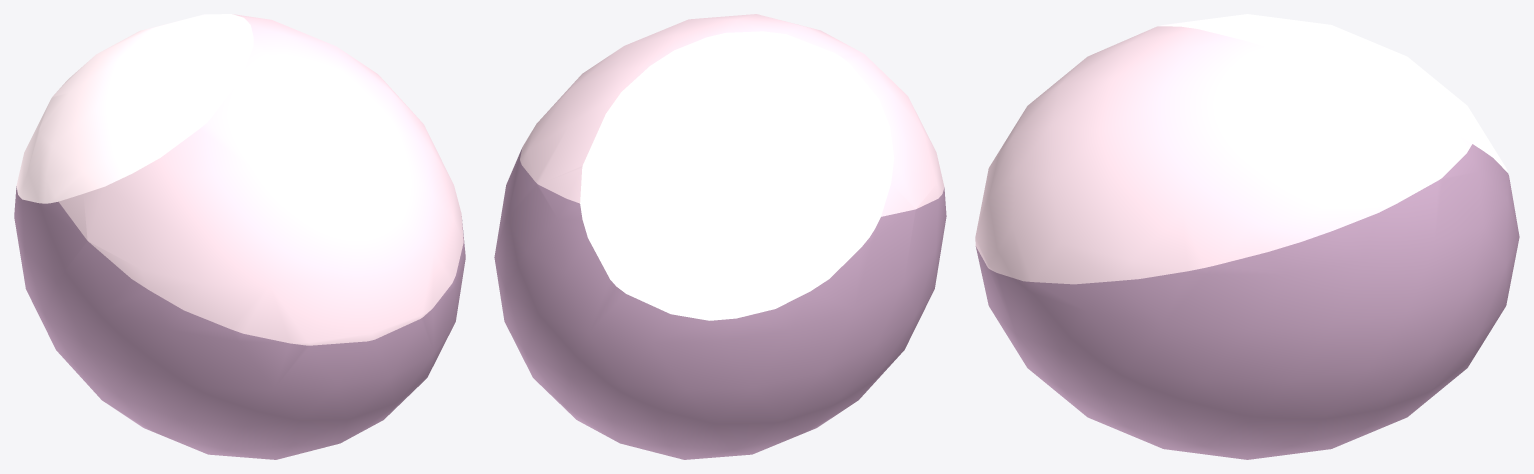
Rendered from purple_grape_209.glb.
3 views of the same model, side by side, from view 1: azimuth 30°, elevation 25°; view 2: azimuth 150°, elevation 25°; view 3: azimuth 270°, elevation 25° (orthographic). The views are drawn at different scales.
Visible parts, largest first — view 1: purple_grape_209; view 2: purple_grape_209; view 3: purple_grape_209.
Part boxes in pixels (x1,y1,x2,y2): purple_grape_209: (14, 14, 465, 459); purple_grape_209: (494, 14, 946, 459); purple_grape_209: (975, 14, 1519, 459).
Bounding box in the file's own units: 4.1 × 4.2 × 5.1.
